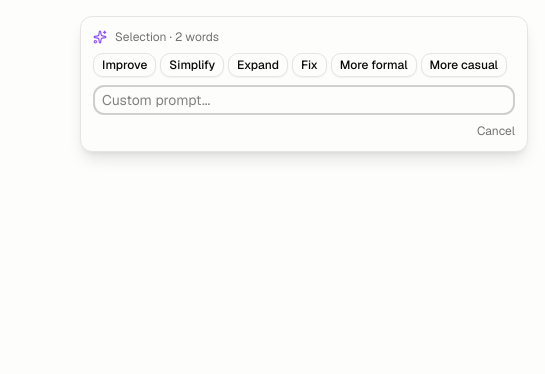
Scenario: InlineAI › should render two AI suggestion cards when completion includes two suggestions
Click the button "Improve". click: click(125, 65)
box: [93,53,156,77]
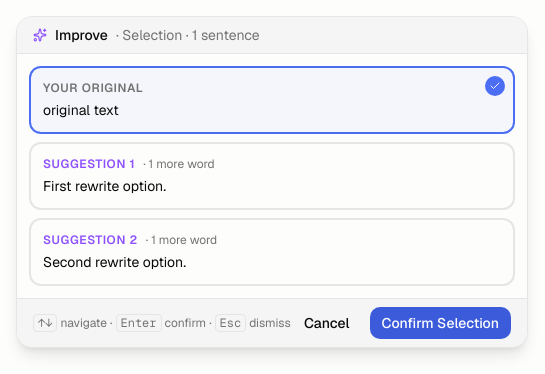
Check: the button with test id "choice-suggestion-1" shows "First rewrite option.", box [29,142,515,210]
Check: the button with test id "choice-suggestion-2" shows "Second rewrite option.", box [29,218,515,286]
